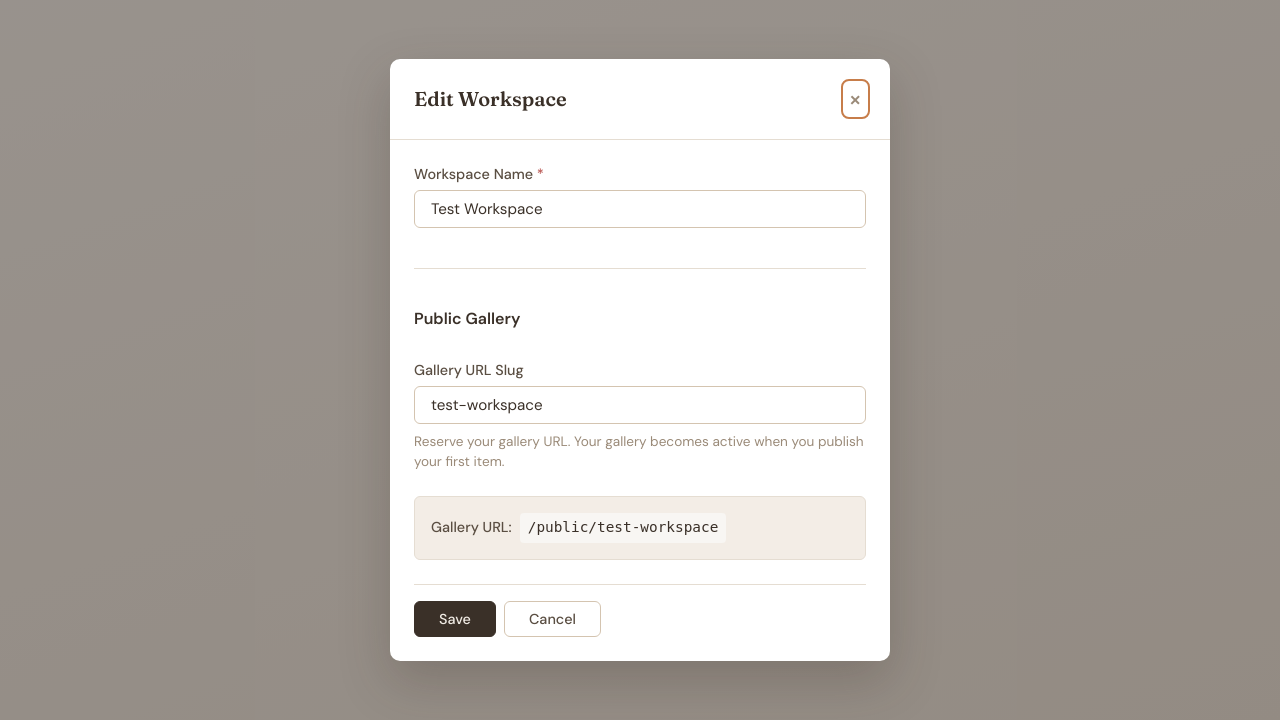
Test: WorkspaceEditModal › snapshots › should match snapshot with error
Click the button "Save" at (455, 619), box [414, 601, 496, 637]
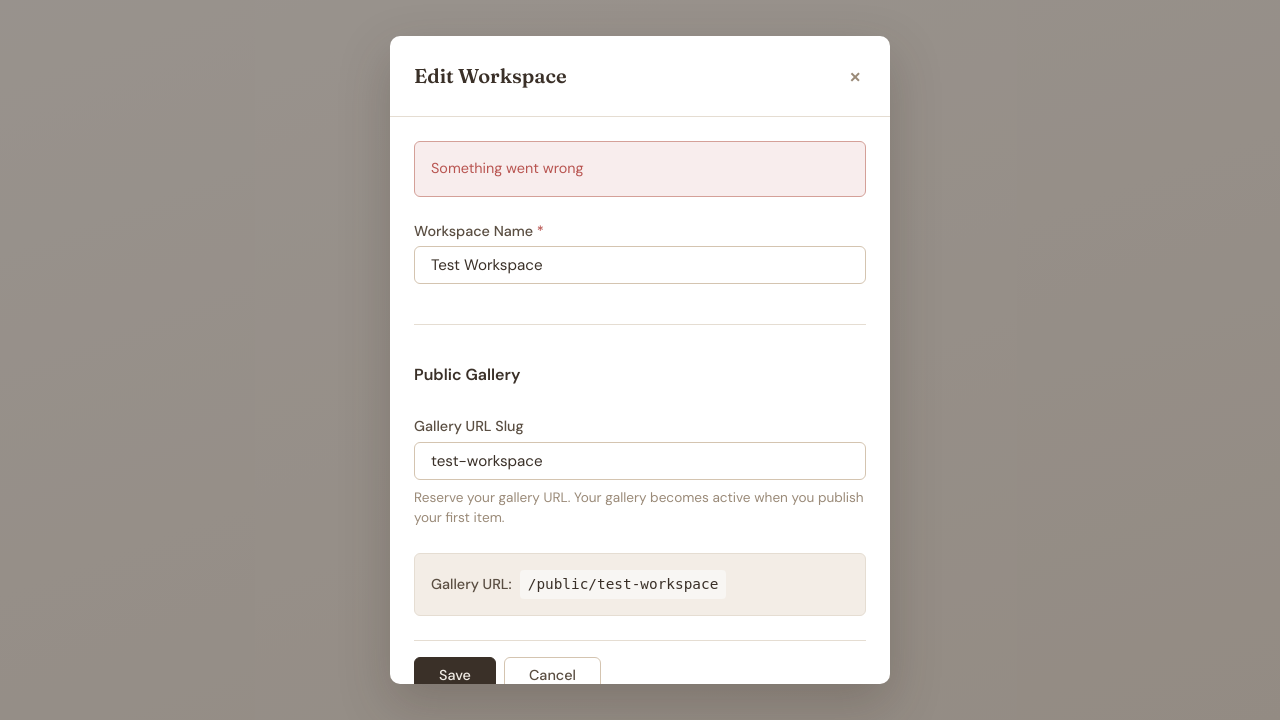
Result: the text "Something went wrong" is shown at [414, 141, 866, 197]
